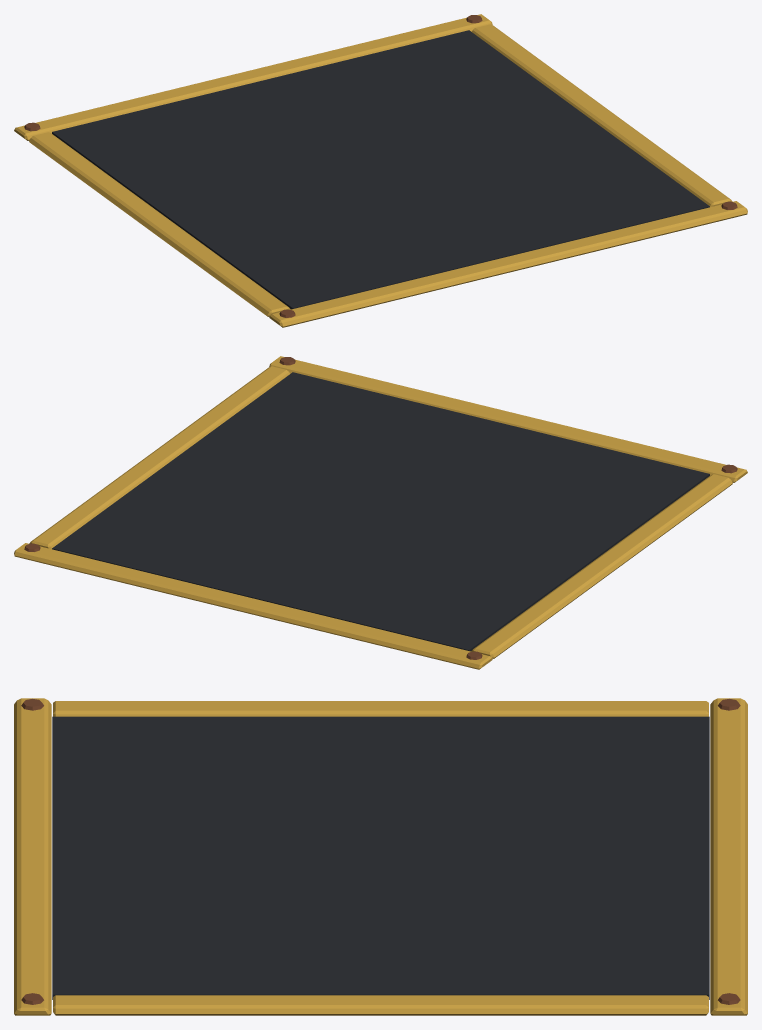
The model's file is Lodge_HuntPad.fbx.
3 views of the same model, one above another, from view 1: azimuth 30°, elevation 25°; view 2: azimuth 150°, elevation 25°; view 3: azimuth 270°, elevation 25° (orthographic). The views are drawn at different scales.
Visible parts, largest first — view 1: PadCentre, Trim; view 2: PadCentre, Trim; view 3: PadCentre, Trim, PadStuds.
Part boxes in pixels (<box>): PadCentre: <box>52,30,709,309</box>; Trim: <box>14,14,747,327</box>; PadCentre: <box>52,372,709,651</box>; Trim: <box>14,356,747,669</box>; PadCentre: <box>52,716,709,999</box>; Trim: <box>14,698,747,1015</box>; PadStuds: <box>21,698,740,1004</box>.
Bounding box in the file's own units: 10 × 0.165 × 9.96.
